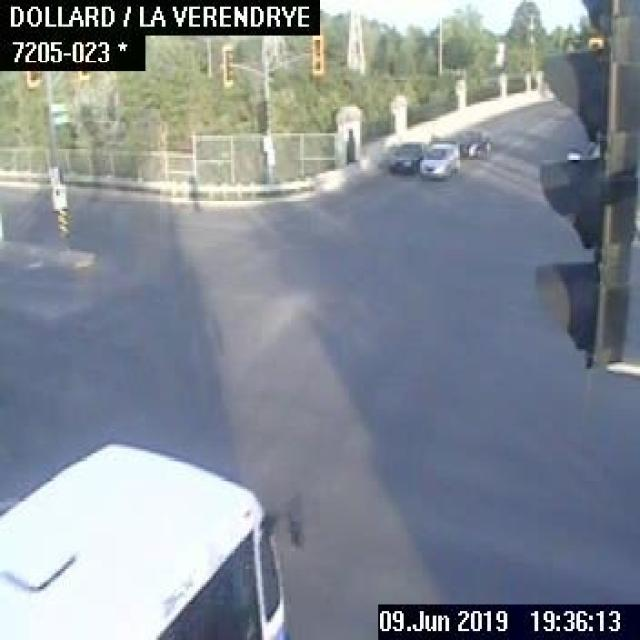bus: (0, 440, 302, 638)
vehicle: (421, 141, 458, 176), (456, 127, 491, 159), (389, 142, 419, 174)
